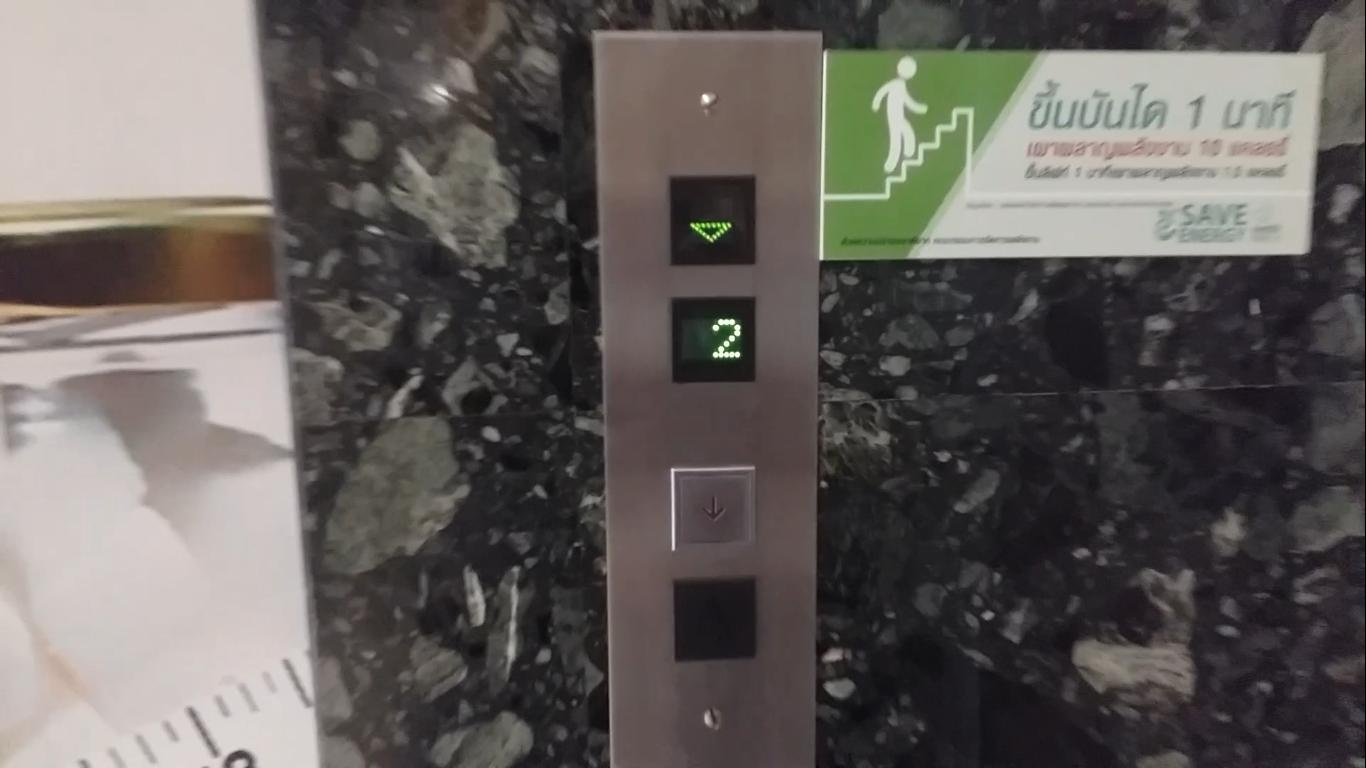down: (665, 460, 762, 558)
empty: (672, 577, 757, 663)
led: (660, 169, 762, 270), (664, 288, 766, 388)
